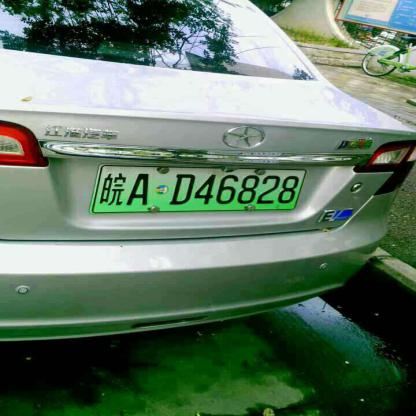lp: (92, 167, 304, 210)
